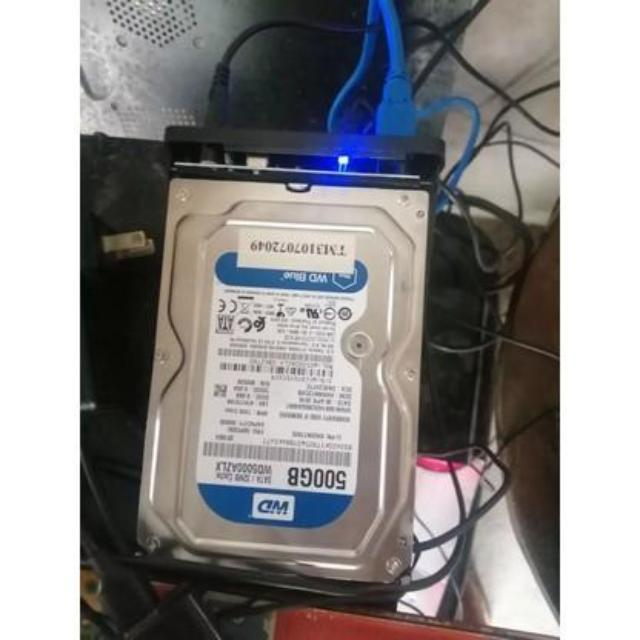DISK: (130, 163, 433, 600)
